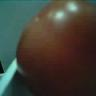tomato: (16, 1, 96, 96)
